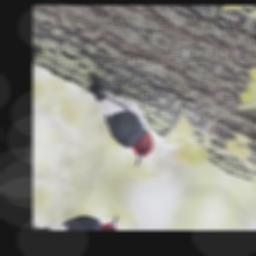Woodpecker: (68, 75, 167, 171)
